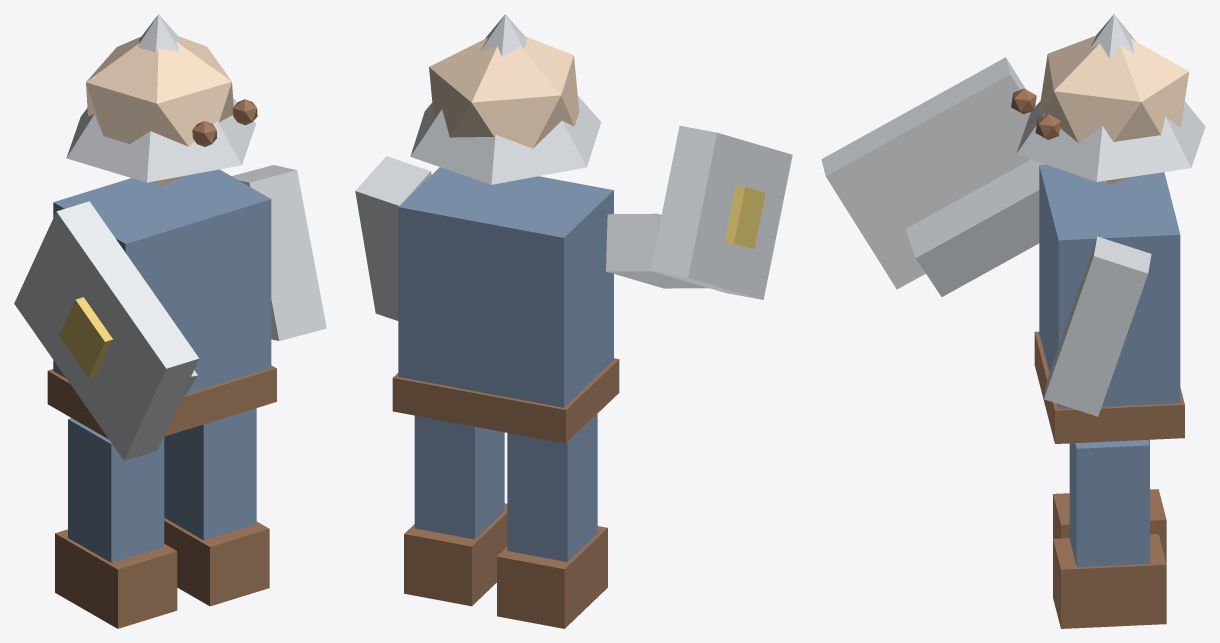
Rendered from npcpose_guard_idle_02.glb.
3 views of the same model, side by side, from view 1: azimuth 30°, elevation 25°; view 2: azimuth 150°, elevation 25°; view 3: azimuth 270°, elevation 25° (orthographic).
Visible parts, largest first — view 1: npcpose; view 2: npcpose; view 3: npcpose.
Part boxes in pixels (bbox=[...]): npcpose: bbox=[14, 14, 326, 628]; npcpose: bbox=[355, 14, 792, 628]; npcpose: bbox=[821, 14, 1205, 628].
Bounding box in the file's own units: 0.847 × 1.55 × 0.9407.
